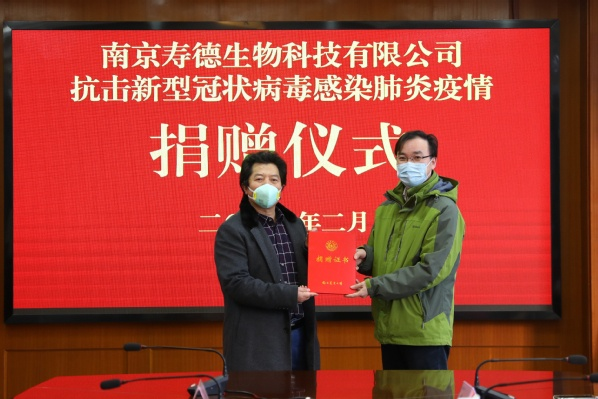correctlyWear: (238, 169, 286, 208), (394, 146, 437, 189)
